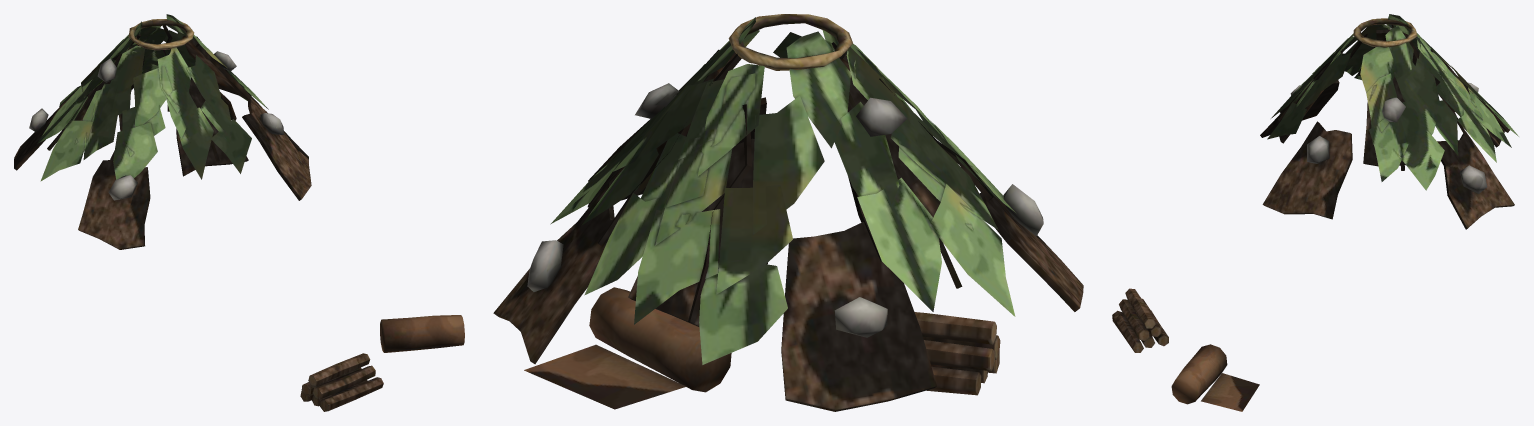
Rendered from shelter_slabs.gltf.
The picture shows the model from 3 angles, left to right: view 1: azimuth 30°, elevation 25°; view 2: azimuth 150°, elevation 25°; view 3: azimuth 270°, elevation 25°; orthographic projection. The views are drawn at different scales.
Parts seen in each view (by area): view 1: shelter_slabs; view 2: shelter_slabs; view 3: shelter_slabs.
Part boxes in pixels (bbox=[...]): shelter_slabs: bbox=[14, 14, 464, 411]; shelter_slabs: bbox=[493, 14, 1083, 411]; shelter_slabs: bbox=[1112, 14, 1518, 411].
Bounding box in the file's own units: 2.65 × 2.23 × 2.84.
Materials: 6 (6 with a texture image).
